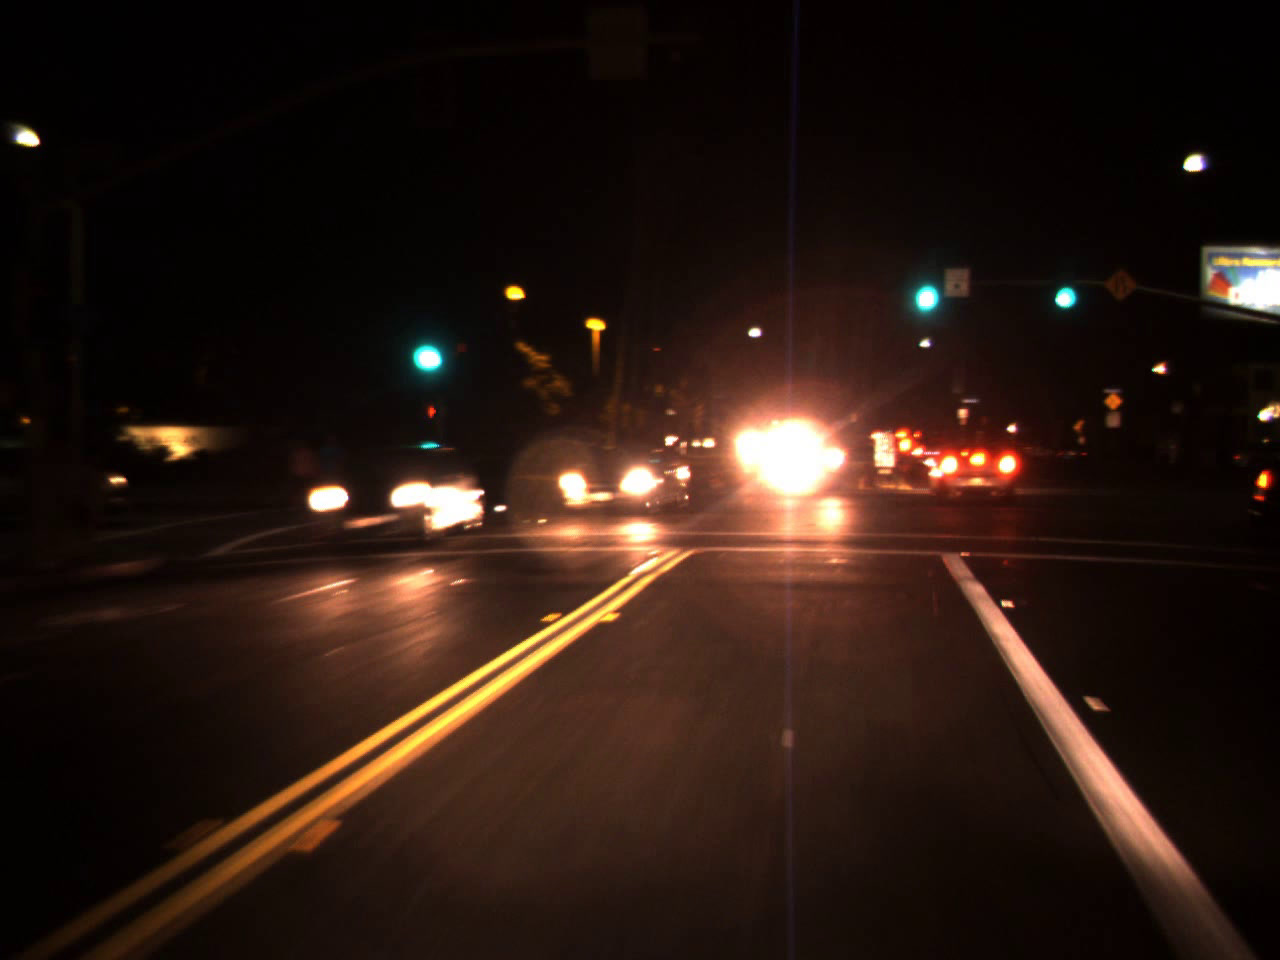go: (400, 310, 450, 382), (905, 250, 944, 322), (1049, 259, 1079, 316)
